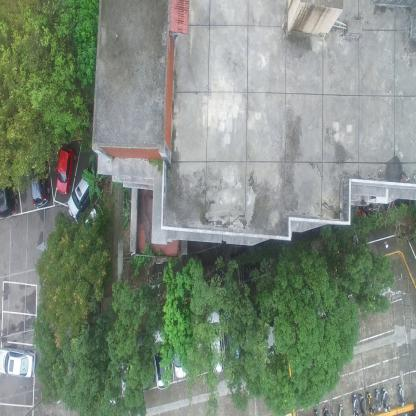car: (66, 168, 96, 219), (0, 151, 19, 220), (30, 150, 52, 207), (0, 346, 37, 379), (152, 328, 171, 390), (259, 301, 277, 366), (206, 309, 224, 373), (135, 331, 153, 389), (55, 146, 75, 196), (225, 308, 242, 366), (172, 320, 188, 378)
